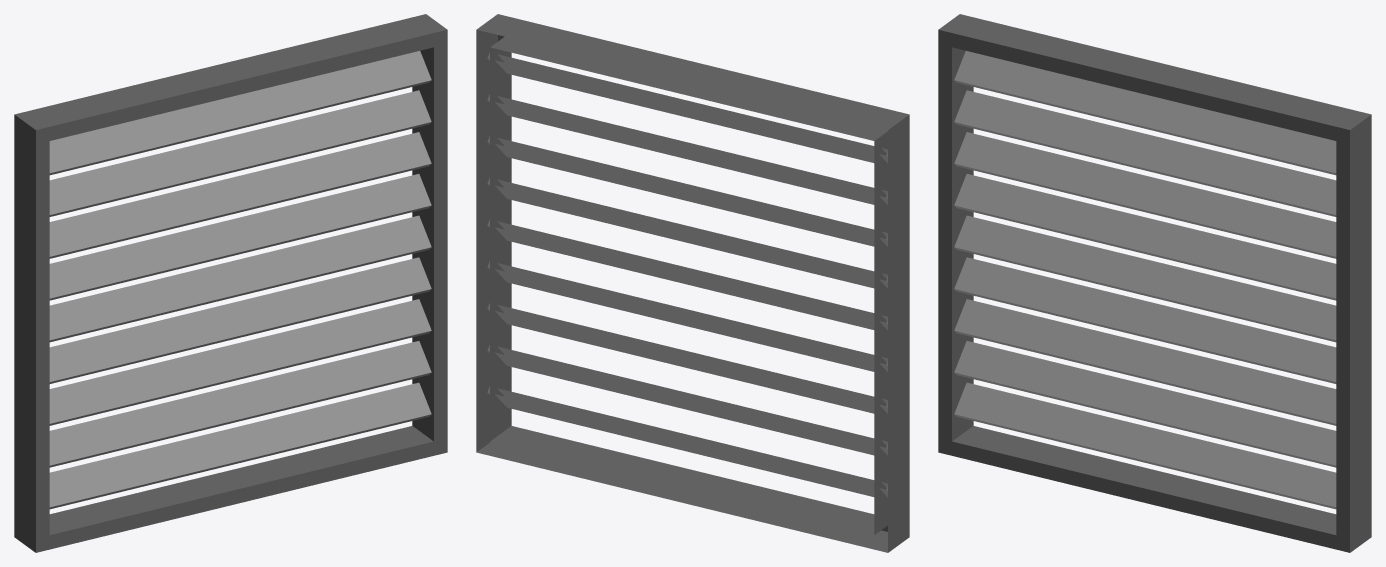
File: Vent.fbx
3 renders of one model, left to right at view 1: azimuth 30°, elevation 25°; view 2: azimuth 150°, elevation 25°; view 3: azimuth 330°, elevation 25°, orthographic.
Parts seen in each view (by area): view 1: Vent; view 2: Vent; view 3: Vent.
Boxes of the visible parts, x1,y1,x2,y2 form: Vent: (14, 14, 447, 552); Vent: (476, 14, 909, 552); Vent: (938, 14, 1371, 552).
Size of the model in its own units: 60.5 by 59.37 by 5.46.
